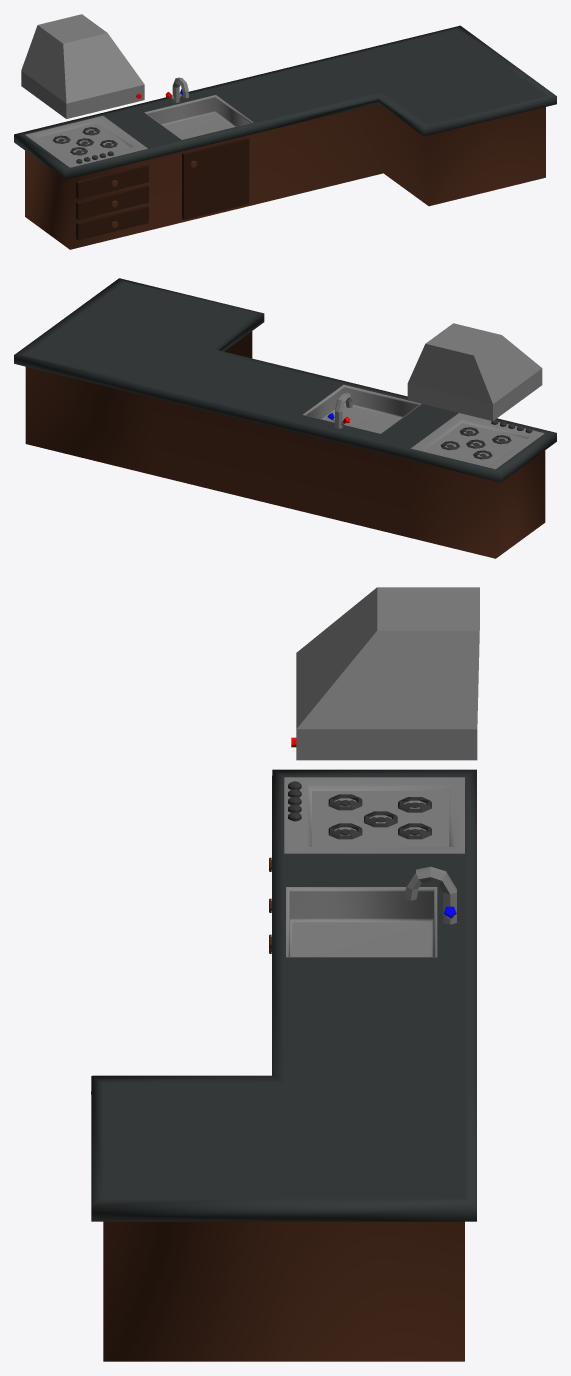
The model's file is kitchen.obj.
The picture shows the model from 3 angles, top to bottom: view 1: azimuth 30°, elevation 25°; view 2: azimuth 150°, elevation 25°; view 3: azimuth 270°, elevation 25°; orthographic projection. The views are drawn at different scales.
Parts seen in each view (by area): view 1: pCube1, textureEditorIsolateSelectSet pCube1, pCube5, pCube6, pCube2 pCube7 pCube8, pTorus7 pTorus8 pTorus9 pTorus10 pTorus11, pCylinder4; view 2: textureEditorIsolateSelectSet pCube1, pCube1, pCube5, pTorus7 pTorus8 pTorus9 pTorus10 pTorus11, pCylinder4; view 3: pCube1, textureEditorIsolateSelectSet pCube1, pCube5, pTorus7 pTorus8 pTorus9 pTorus10 pTorus11, pCylinder4.
Boxes of the visible parts, left/top/right/bottom form: pCube1: left=14, top=25, right=556, bottom=179; textureEditorIsolateSelectSet pCube1: left=25, top=103, right=545, bottom=249; pCube5: left=21, top=14, right=144, bottom=118; pCube6: left=182, top=137, right=249, bottom=219; pCube2 pCube7 pCube8: left=76, top=164, right=148, bottom=240; pTorus7 pTorus8 pTorus9 pTorus10 pTorus11: left=52, top=127, right=117, bottom=155; pCylinder4: left=172, top=77, right=188, bottom=102; textureEditorIsolateSelectSet pCube1: left=25, top=331, right=545, bottom=558; pCube1: left=14, top=278, right=556, bottom=482; pCube5: left=407, top=323, right=542, bottom=420; pTorus7 pTorus8 pTorus9 pTorus10 pTorus11: left=440, top=427, right=511, bottom=459; pCylinder4: left=335, top=392, right=352, bottom=428; pCube1: left=91, top=769, right=476, bottom=1221; textureEditorIsolateSelectSet pCube1: left=103, top=1221, right=464, bottom=1361; pCube5: left=296, top=587, right=479, bottom=760; pTorus7 pTorus8 pTorus9 pTorus10 pTorus11: left=328, top=794, right=431, bottom=839; pCylinder4: left=404, top=866, right=456, bottom=924.
Size of the model in its own units: 570 by 226 by 215.
